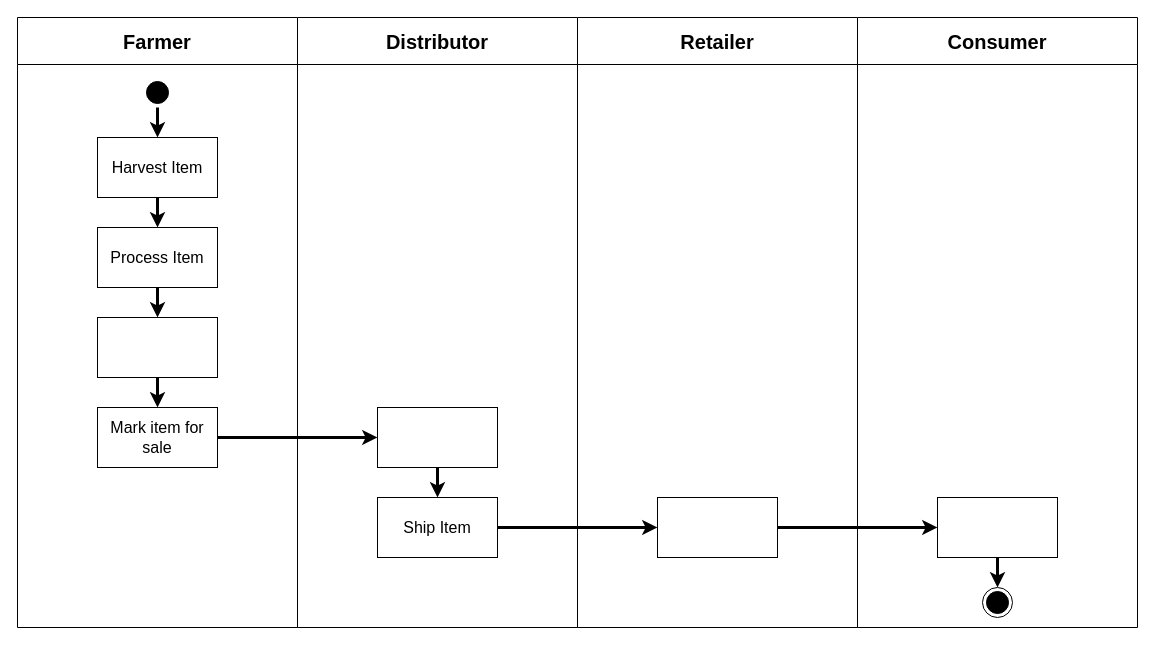
This 1155x645 diagram has some shape labels left out. The centre of each missing label's shape, as x and y in pixels:
Buy Item: the point at 437,437
Pack Item: the point at 157,347
Purchase Item: the point at 997,527
Receive Item: the point at 717,527
